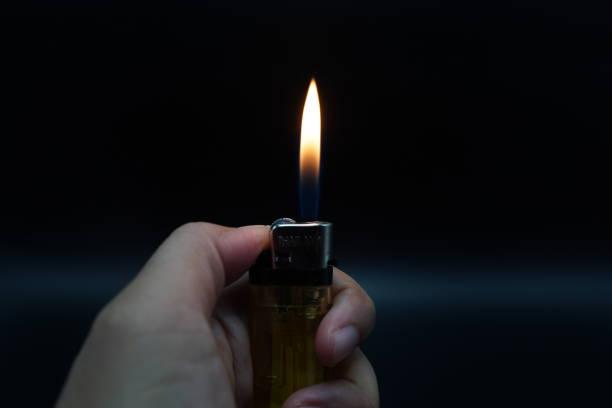Fire: (298, 77, 325, 213)
